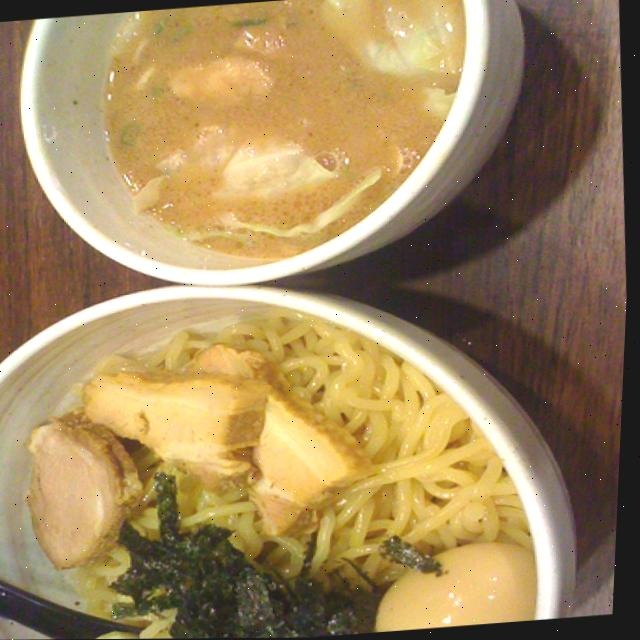面条主食: (12, 0, 576, 640)
